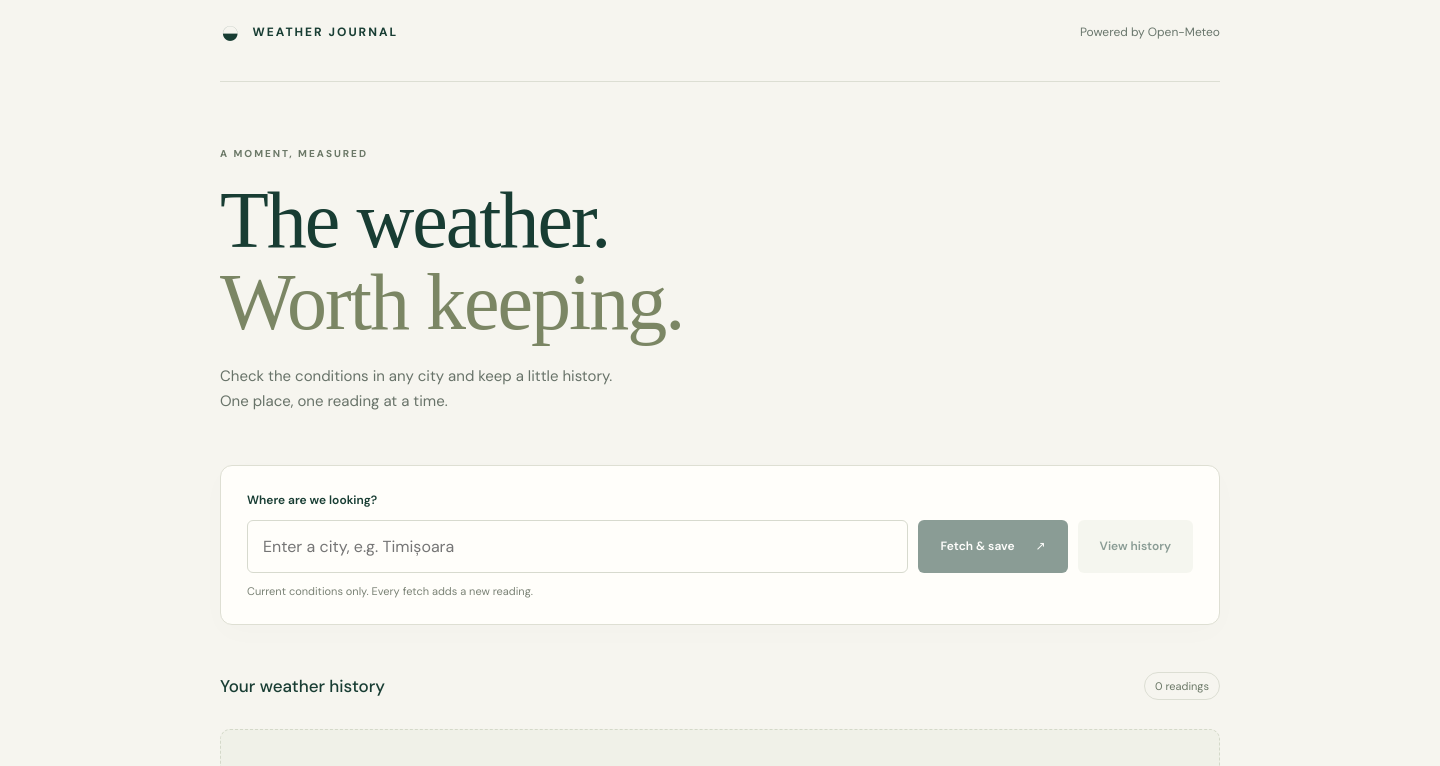
Test case: fetches a city, saves it, and renders stored readings
Type "Paris" into the field labelled "Where are we looking?" at (578, 546), box [247,520,908,573]
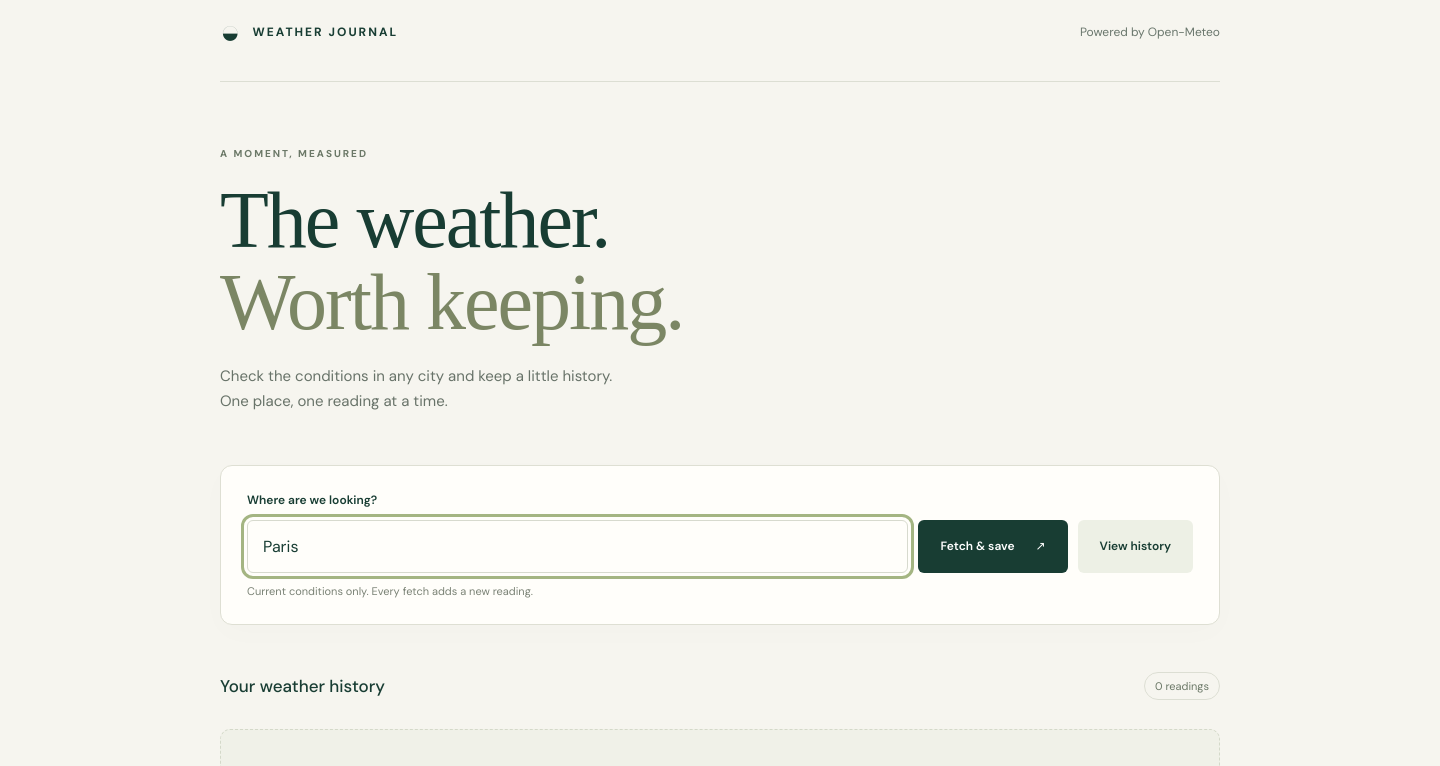
Click the button "Fetch & save ↗" at (993, 546), box [918,520,1068,573]
(page scrolled)
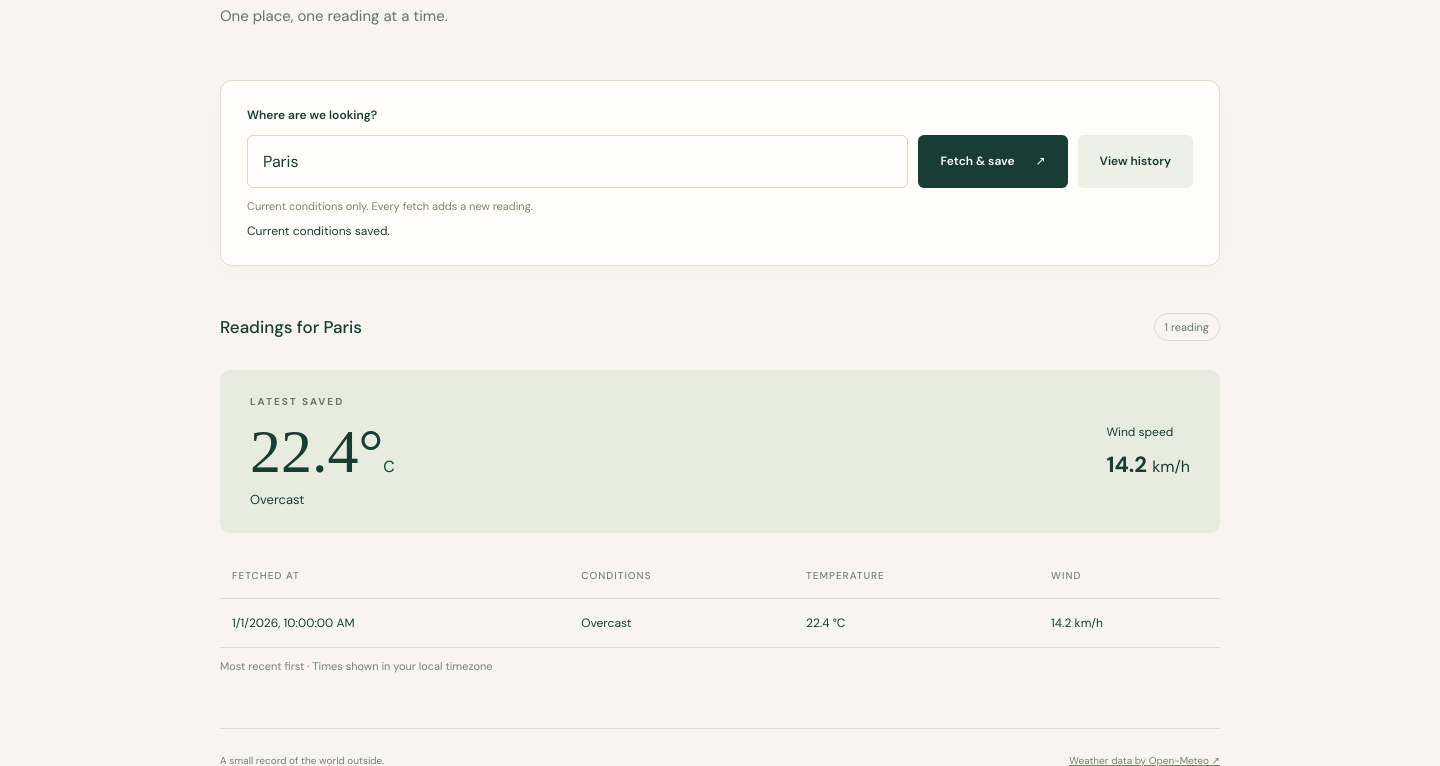
Result: the heading "Readings for Paris" is shown at [220,316,362,338]
Result: the cell "22.4 °C" is shown at [794,598,1039,648]
